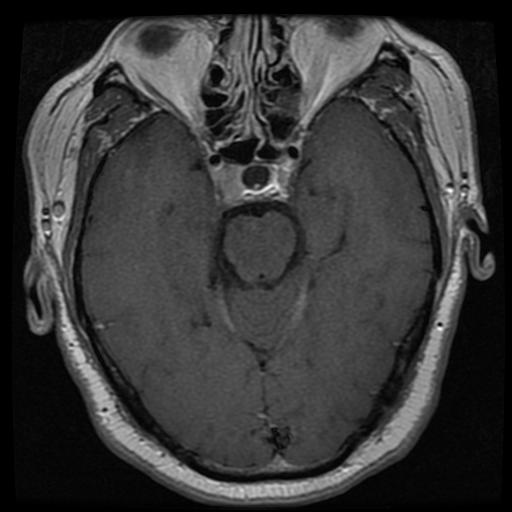Pituirity_tumour: (216, 163, 294, 203)
